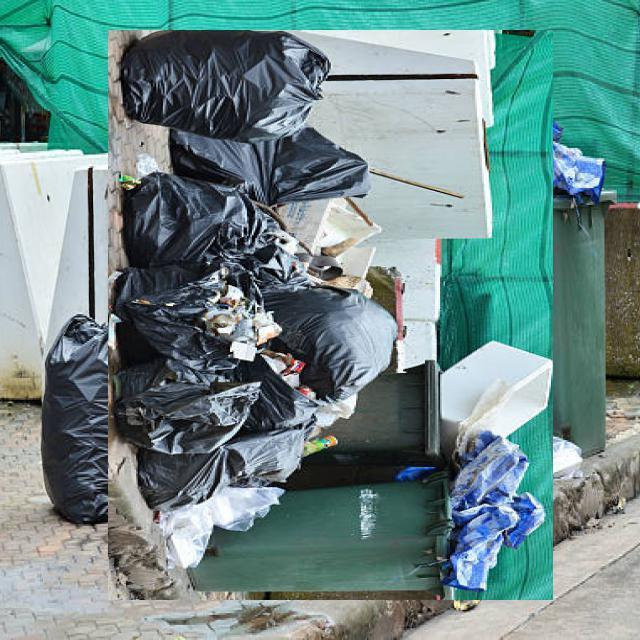Trashbag: (124, 21, 340, 126), (171, 109, 364, 203), (32, 318, 116, 523), (136, 420, 311, 511), (108, 361, 264, 450), (270, 284, 386, 396), (105, 270, 227, 368), (119, 177, 255, 259)
